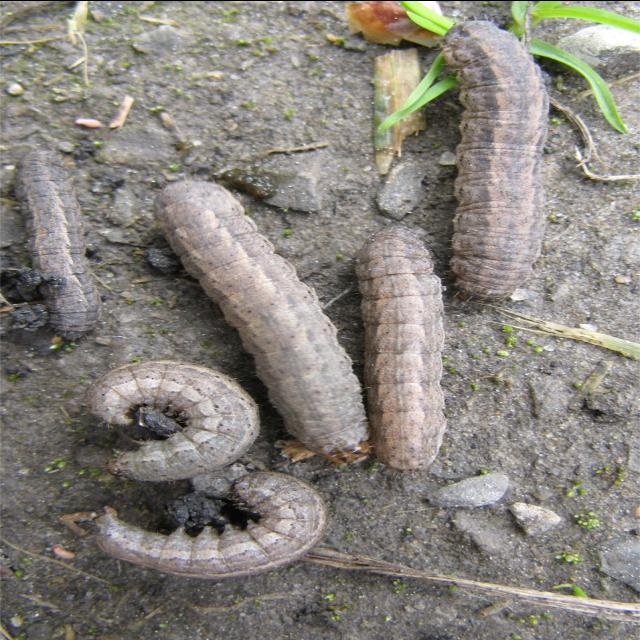cutworm: (167, 174, 374, 472), (431, 13, 546, 303), (77, 462, 331, 579), (361, 221, 455, 475), (86, 358, 266, 481), (15, 144, 118, 346)
